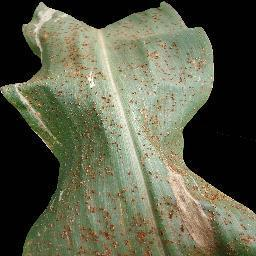Corn_Common_Rust: (0, 0, 223, 161), (21, 161, 256, 256)
